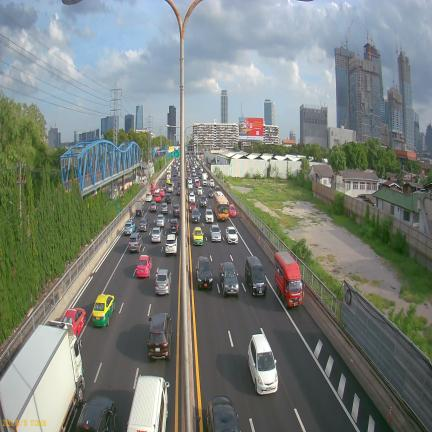bus: (213, 191, 229, 220)
car: (248, 333, 278, 394), (148, 313, 172, 360), (196, 256, 213, 289), (155, 269, 171, 294), (128, 232, 142, 253), (165, 233, 177, 255), (226, 226, 238, 244), (210, 224, 222, 241), (151, 227, 162, 243), (124, 220, 135, 235), (169, 218, 179, 234), (139, 217, 149, 231), (205, 209, 214, 223), (192, 208, 200, 223), (156, 214, 165, 227), (173, 204, 181, 218), (150, 201, 158, 212), (161, 203, 168, 214), (200, 196, 207, 207), (189, 202, 196, 212), (145, 193, 152, 202), (154, 193, 161, 202), (189, 192, 195, 202), (165, 193, 171, 203), (197, 186, 203, 195), (208, 188, 213, 198), (167, 184, 173, 192), (209, 179, 215, 187), (176, 187, 181, 196), (214, 185, 221, 191), (188, 181, 193, 189), (155, 186, 160, 193), (194, 176, 199, 183), (195, 180, 200, 187), (151, 189, 155, 197), (166, 177, 170, 185), (199, 171, 202, 178), (197, 186, 198, 187), (199, 185, 199, 185)
pickup: (220, 262, 239, 297)
taxi: (92, 294, 115, 327), (62, 308, 86, 337), (136, 256, 152, 278), (193, 227, 203, 245), (228, 205, 237, 217), (159, 188, 165, 197), (155, 187, 160, 193), (166, 177, 170, 184)
truck: (0, 321, 85, 432), (274, 251, 304, 307), (135, 199, 143, 217), (202, 173, 207, 186)
van: (127, 376, 169, 432), (245, 256, 267, 295)
